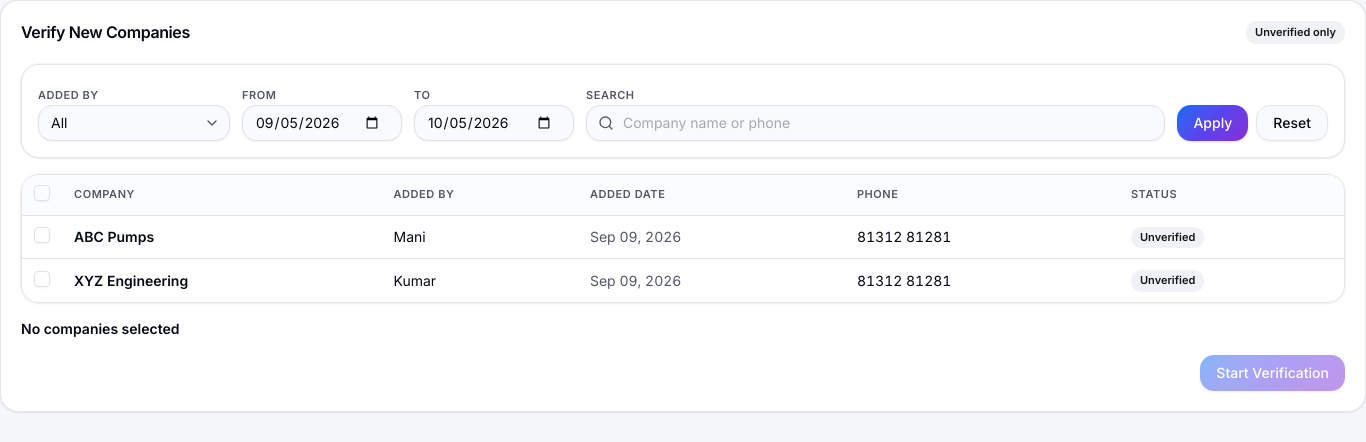
Test: VerifyNewCompaniesPanel › clears the selection when filters change, so a stale id cannot be submitted
The width and height of the screenshot is (1366, 442).
expect the text "ABC Pumps" is shown: met, box [62, 216, 382, 259]
Click the checkbox named "Select ABC Pumps": (42, 235) [34, 227, 50, 243]
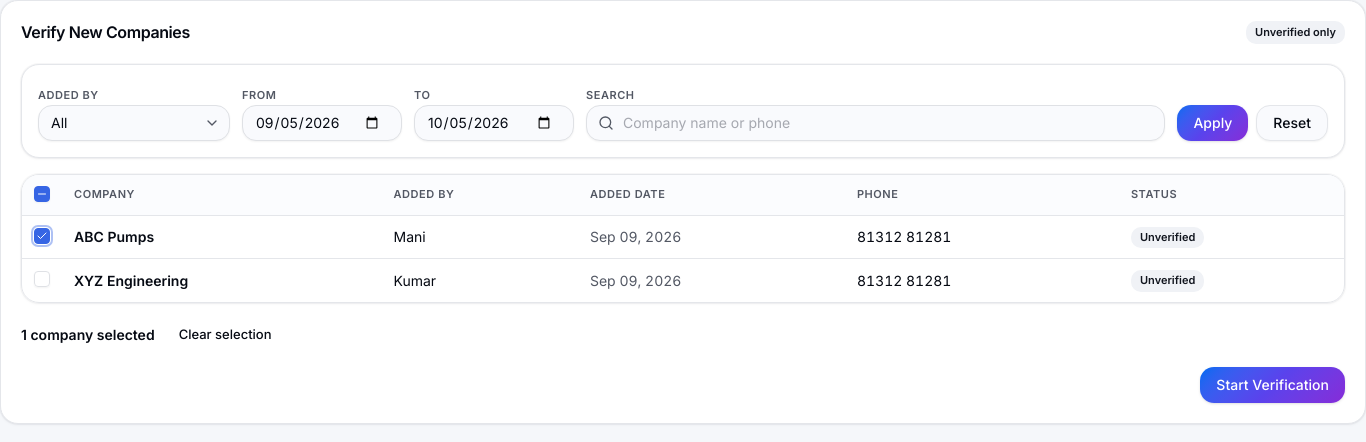
expect the text "1 company selected" is shown: met, box [21, 325, 155, 345]
Select "Kumar (4)" in the dropdown labelled "Added by": (134, 122) [38, 104, 230, 140]
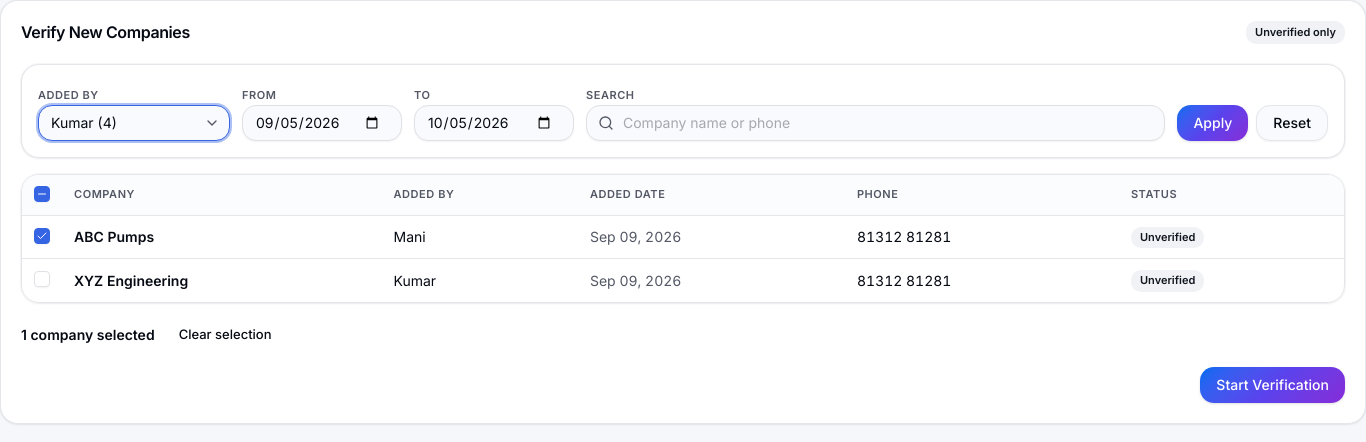
Click the button "Apply": (1213, 122) [1177, 104, 1248, 140]
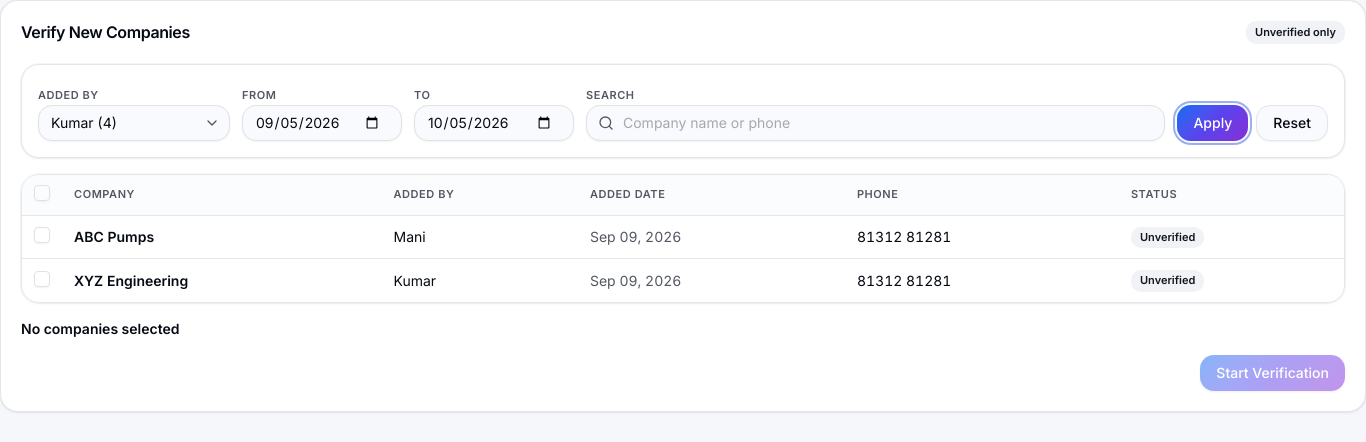
expect the text "No companies selected" is shown: met, box [21, 319, 180, 339]
